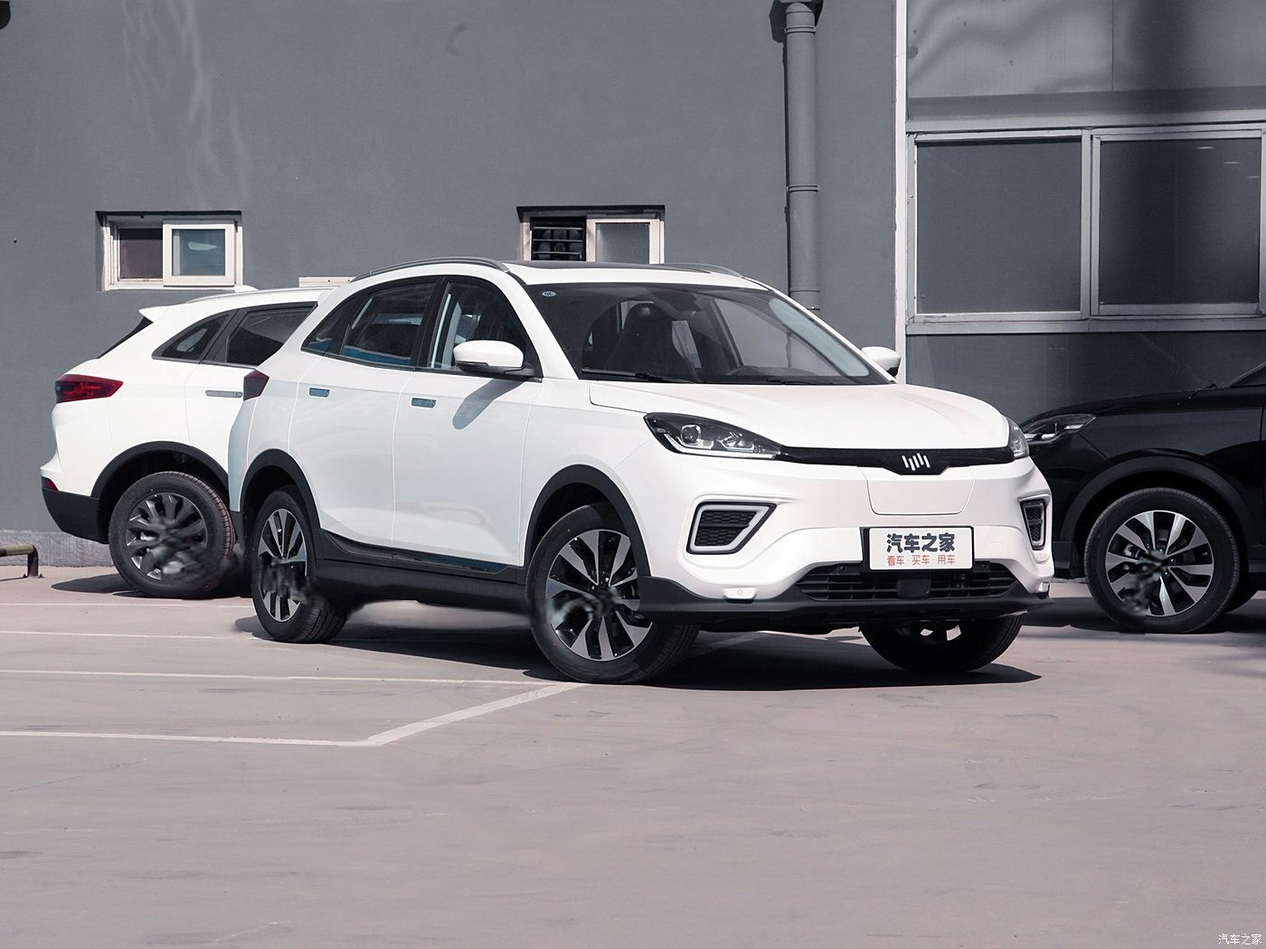WELTMEISTER: (902, 454, 930, 471)
